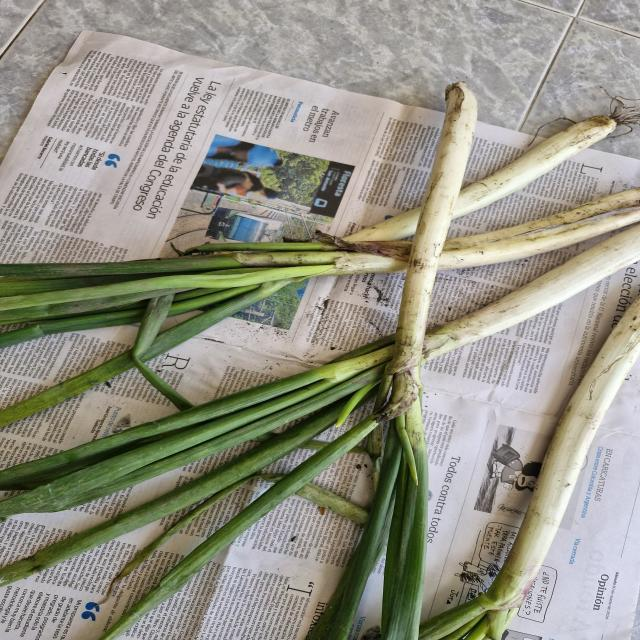green_onion: (3, 214, 640, 584), (0, 179, 636, 377), (425, 289, 640, 639)
